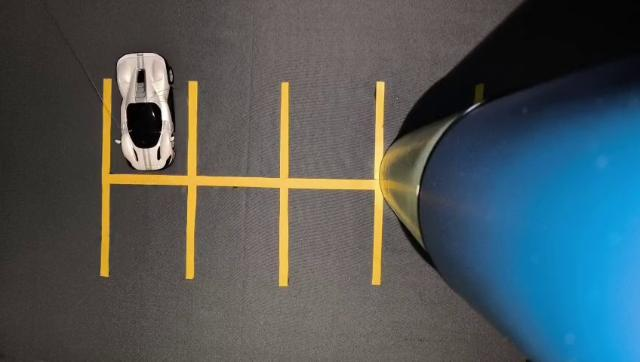toy_car: (101, 44, 195, 188)
